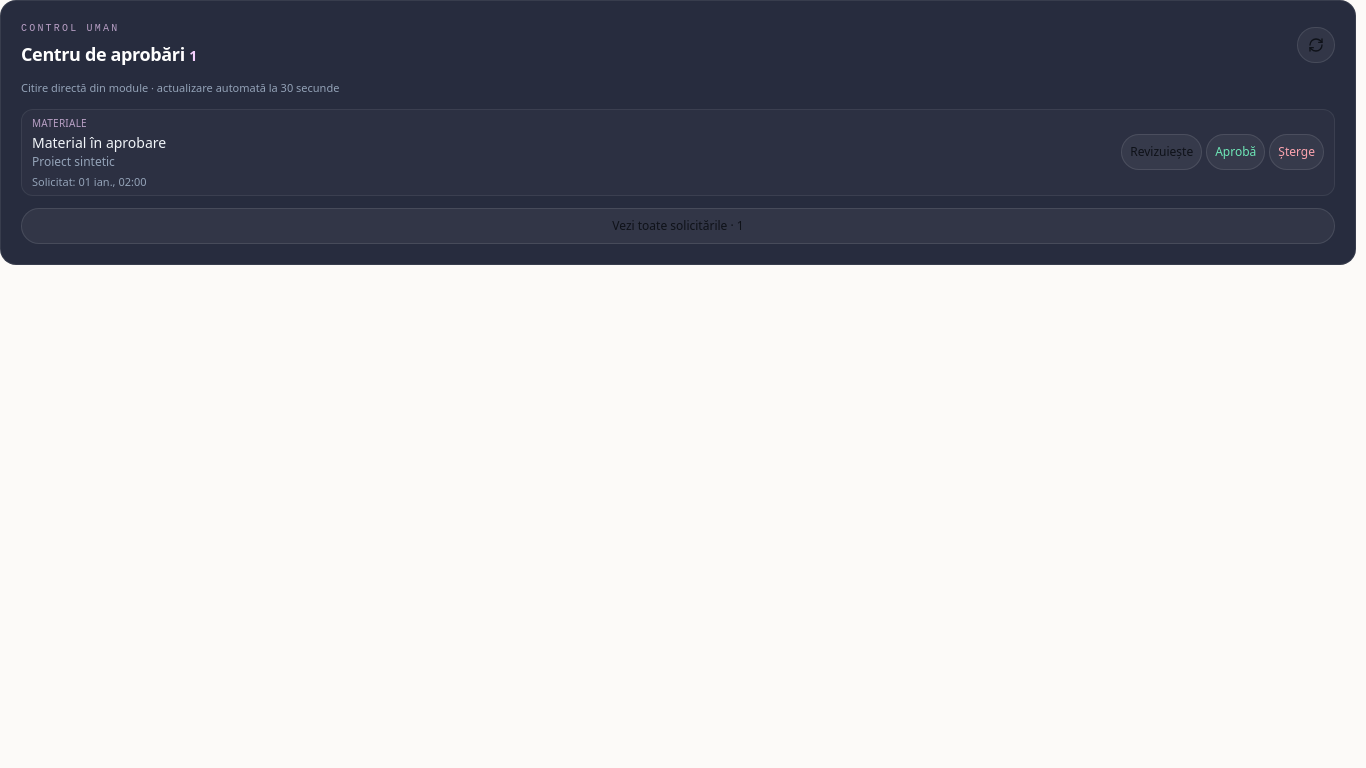
it: Unified approval center › keeps legal model reviews in the original module without a blanket approve button
The width and height of the screenshot is (1366, 768).
Expected: the text "Material în aprobare" is shown, [32,132,166,152]
What coordinates should you click on to do the following:
click the button "Revizuiește"
I would click on:
 (1162, 152)
Its box is [1121,134,1202,170].
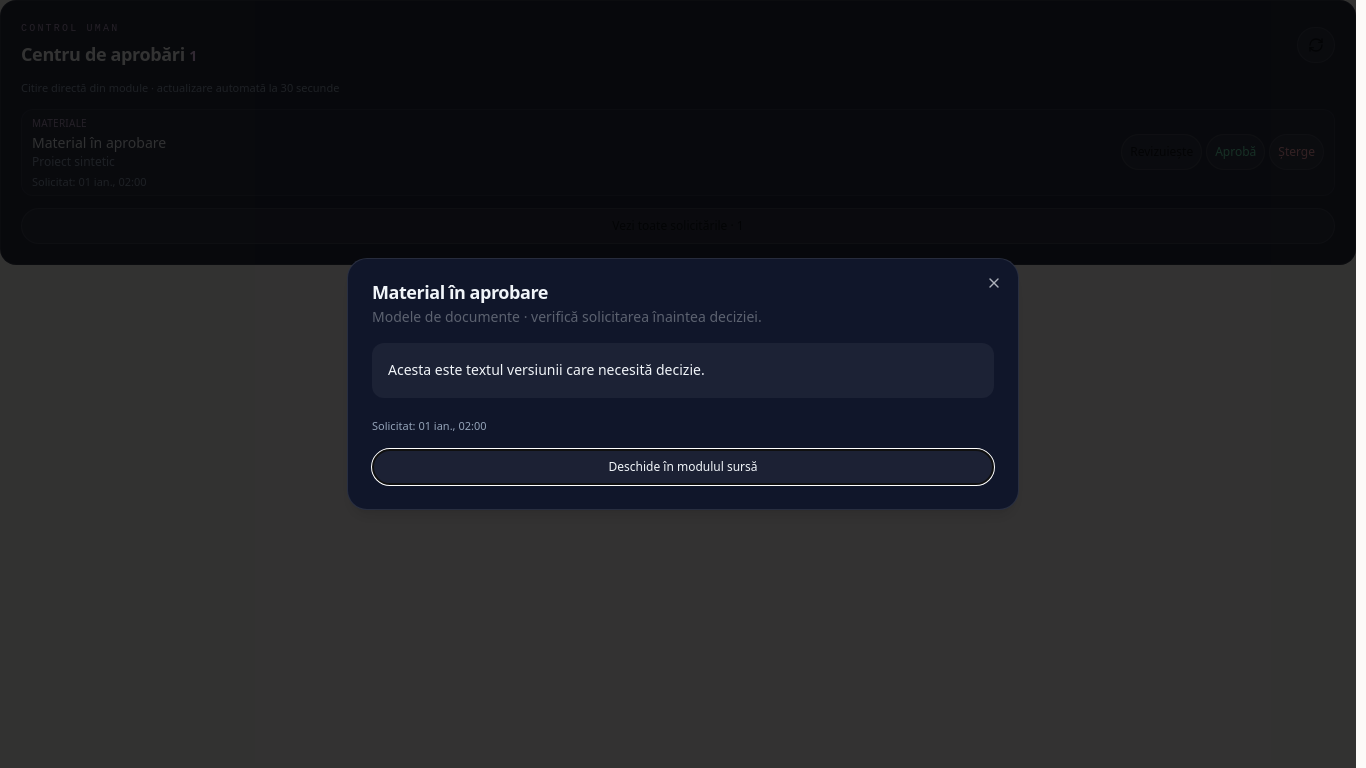
Expected: the button "Deschide în modulul sursă" is shown, [372,449,994,485]
